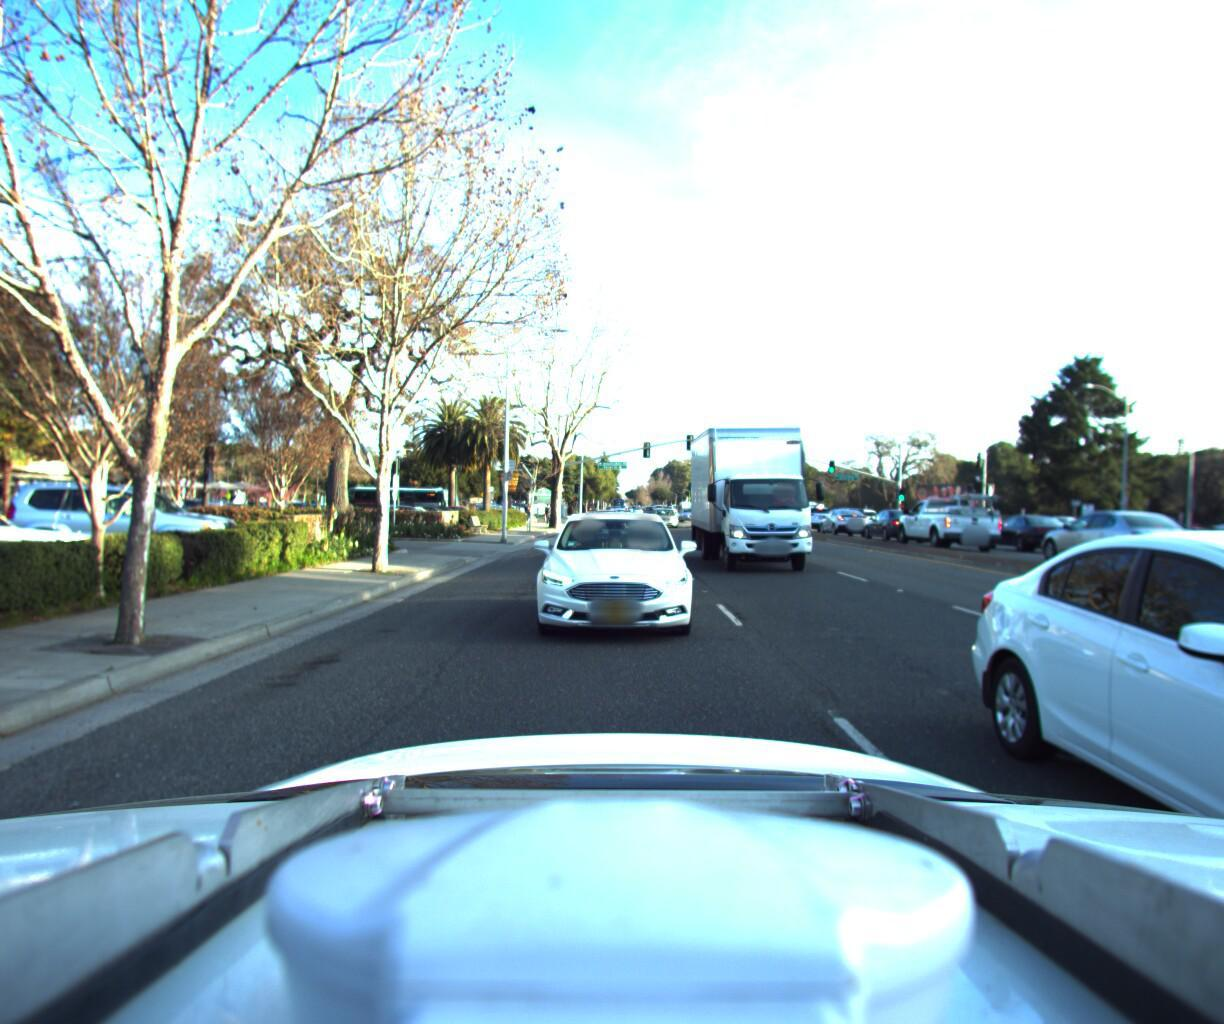bus: (343, 478, 465, 517)
car: (1051, 504, 1224, 1024), (529, 502, 691, 660), (1, 476, 245, 555), (0, 492, 127, 605), (1030, 498, 1216, 573), (888, 483, 1014, 551), (1179, 500, 1224, 613), (970, 505, 1073, 554), (1131, 514, 1224, 558), (858, 499, 933, 539), (816, 498, 871, 531), (790, 496, 835, 527), (1021, 507, 1078, 529), (647, 493, 682, 522)
truck: (686, 399, 841, 584)
